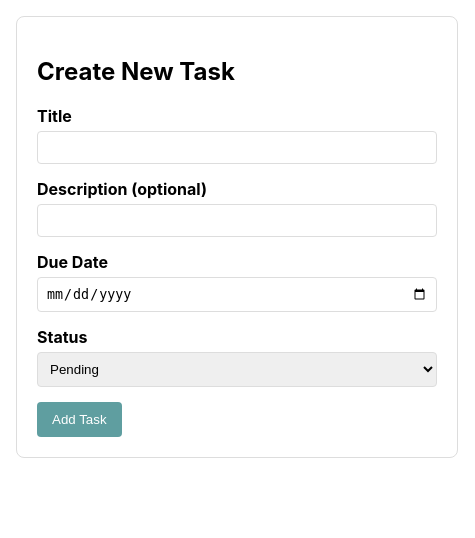
Test: validates the form input and displays error messages
Click the button "Add Task": (79,420) [37,402,122,437]
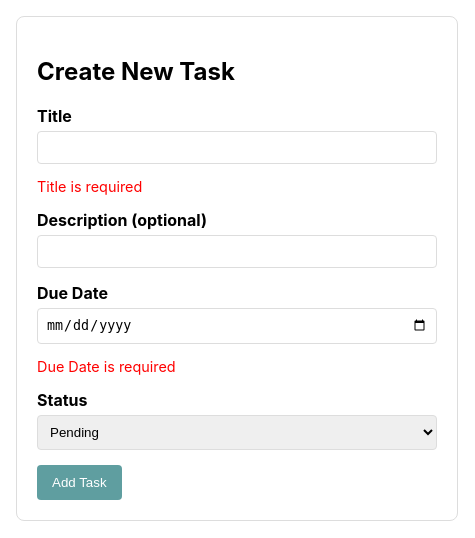
Check: the text "Title is required" is shown, box [37,178,142,195]
Check: the text "Due Date is required" is shown, box [37,358,176,375]
